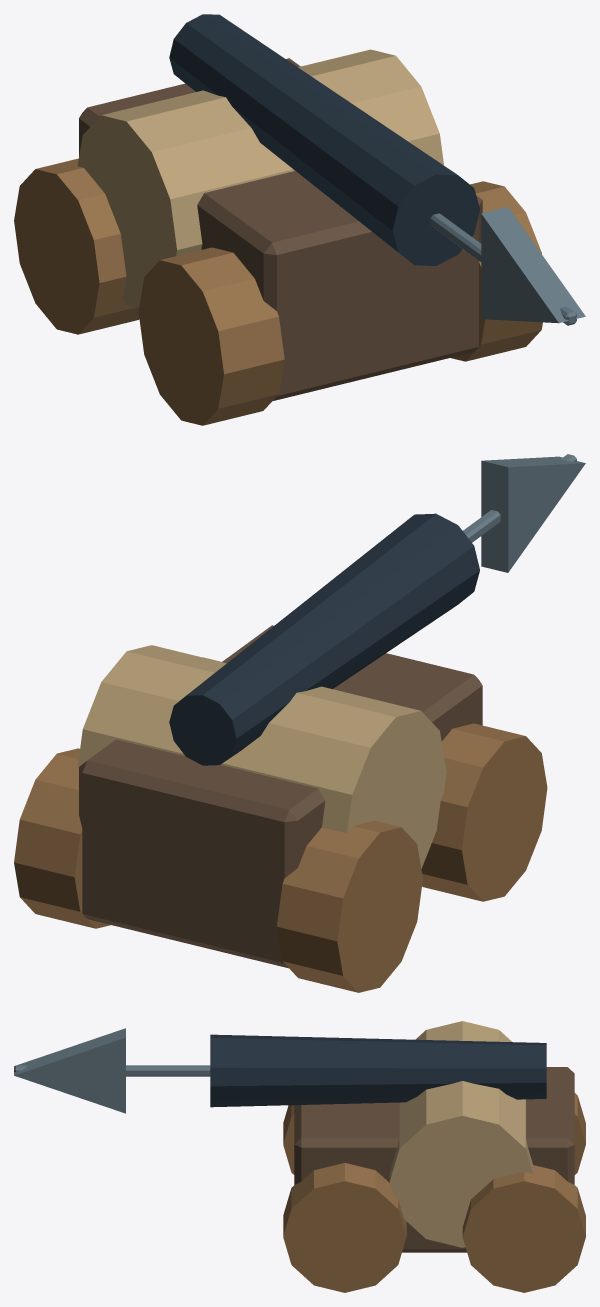
Rendered from equipment-harpoon.lod0.glb.
3 renders of one model, top to bottom at view 1: azimuth 30°, elevation 25°; view 2: azimuth 150°, elevation 25°; view 3: azimuth 270°, elevation 25°, orthographic. The views are drawn at different scales.
Parts seen in each view (by area): view 1: equipment-harpoon__body, equipment-harpoon__barrel; view 2: equipment-harpoon__body, equipment-harpoon__barrel; view 3: equipment-harpoon__barrel, equipment-harpoon__body.
Boxes of the visible parts, bbox=[...] form: equipment-harpoon__body: bbox=[14, 58, 542, 425]; equipment-harpoon__barrel: bbox=[77, 14, 585, 325]; equipment-harpoon__body: bbox=[14, 625, 547, 992]; equipment-harpoon__barrel: bbox=[77, 454, 585, 868]; equipment-harpoon__barrel: bbox=[14, 1021, 546, 1247]; equipment-harpoon__body: bbox=[283, 1067, 585, 1292].
Bounding box in the file's own units: 0.96 × 0.8 × 2.04.
